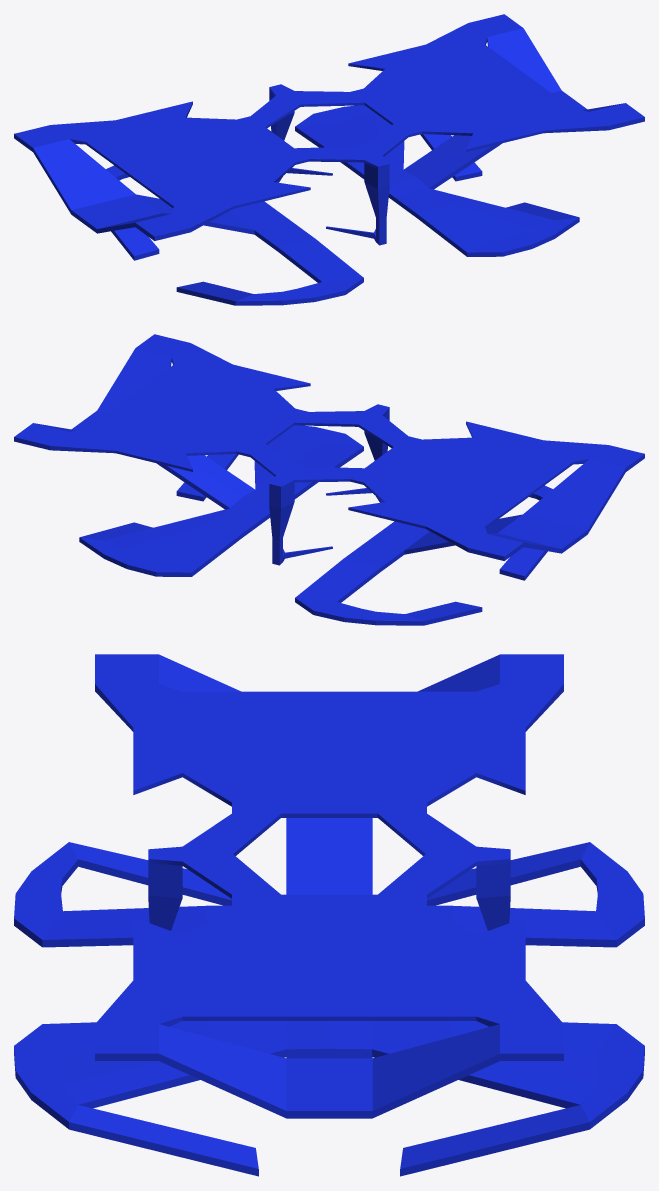
File: Level 3.FBX
The picture shows the model from 3 angles, top to bottom: view 1: azimuth 30°, elevation 25°; view 2: azimuth 150°, elevation 25°; view 3: azimuth 270°, elevation 25°; orthographic projection. The views are drawn at different scales.
Parts seen in each view (by area): view 1: Box012; view 2: Box012; view 3: Box012.
Part boxes in pixels (left/top/right/bottom): Box012: left=14, top=14, right=644, bottom=305; Box012: left=14, top=334, right=644, bottom=625; Box012: left=14, top=654, right=644, bottom=1176.
Bounding box in the file's own units: 11.97 × 2.53 × 8.
